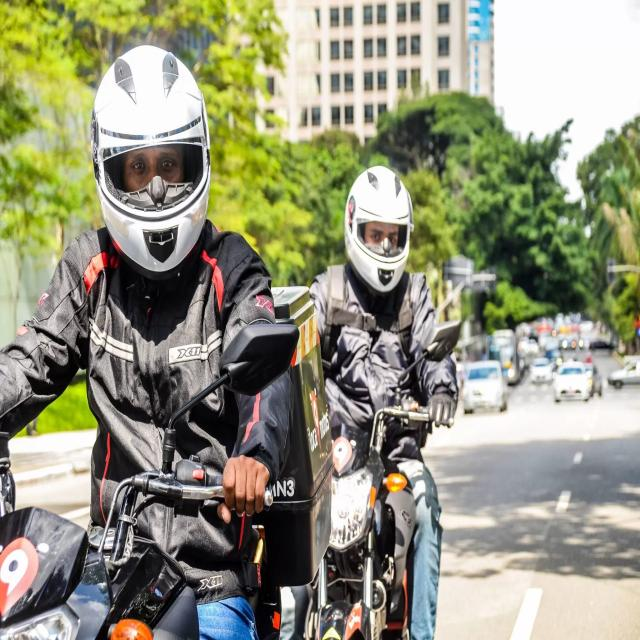helmet: (84, 40, 216, 283), (339, 158, 417, 300)
